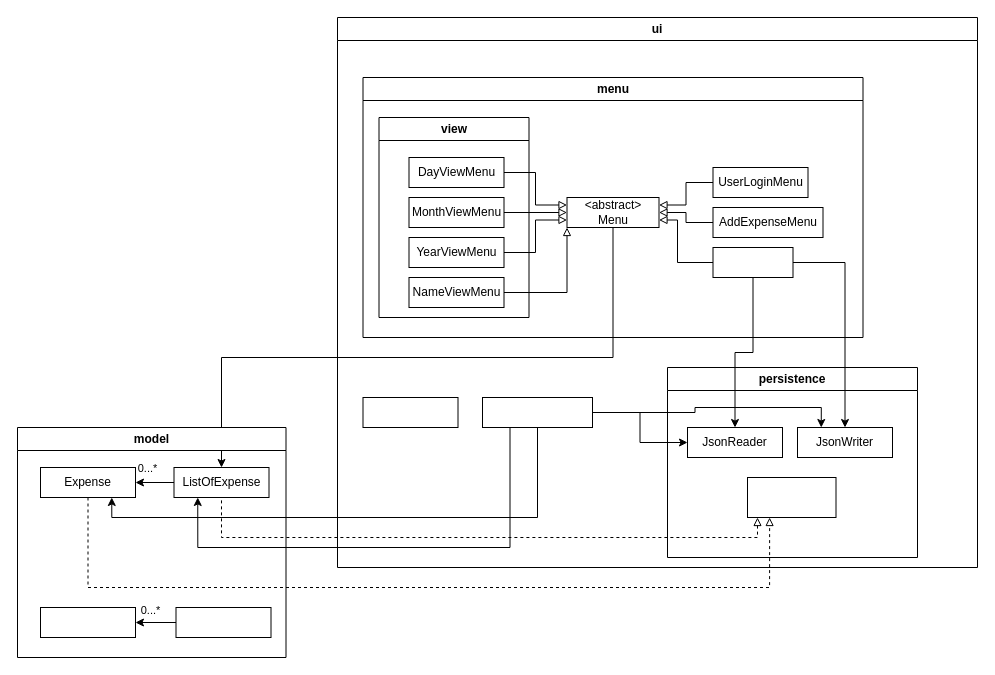
Some shapes in this 995 by 675 pixel diagram are drawn without their labels. The centre of each missing label's shape, as x and y in pixels:
"<interface> Writable" goes at pixel 791 497.
"BudgetCalculator" goes at pixel 537 412.
"Event" goes at pixel 88 622.
"EventLog" goes at pixel 223 622.
"Main" goes at pixel 410 412.
"StartMenu" goes at pixel 752 262.
